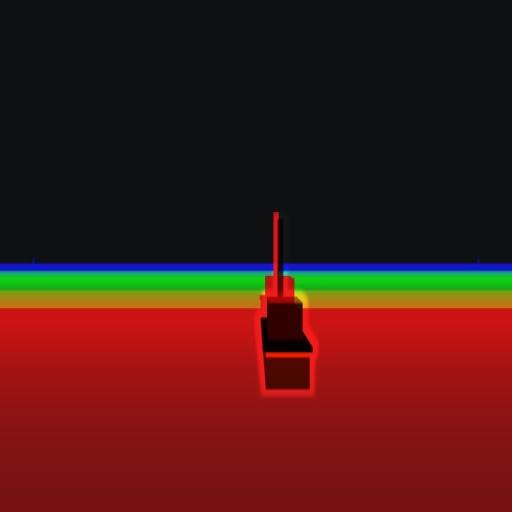vessel: (256, 205, 314, 393)
